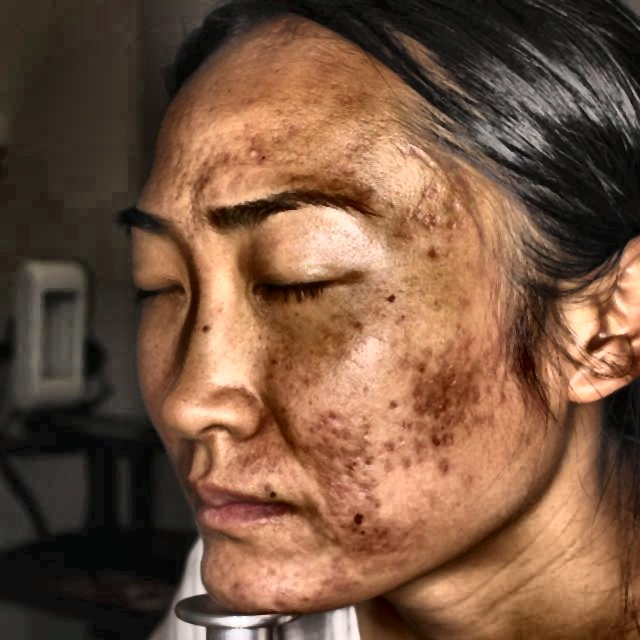papule: (243, 140, 279, 168), (406, 346, 438, 376), (314, 466, 346, 495), (399, 394, 432, 422), (429, 425, 464, 451), (355, 483, 386, 512), (372, 432, 401, 461), (454, 329, 484, 357), (276, 592, 310, 616), (371, 520, 399, 548), (404, 366, 435, 391), (416, 239, 451, 261), (487, 319, 511, 349), (465, 380, 491, 407), (339, 502, 365, 529), (489, 380, 516, 405), (429, 454, 456, 479), (328, 454, 358, 475), (431, 210, 462, 228), (394, 451, 416, 475), (454, 289, 474, 315), (310, 421, 328, 448), (443, 361, 467, 380), (434, 378, 457, 396), (465, 371, 489, 386), (322, 410, 339, 431)
